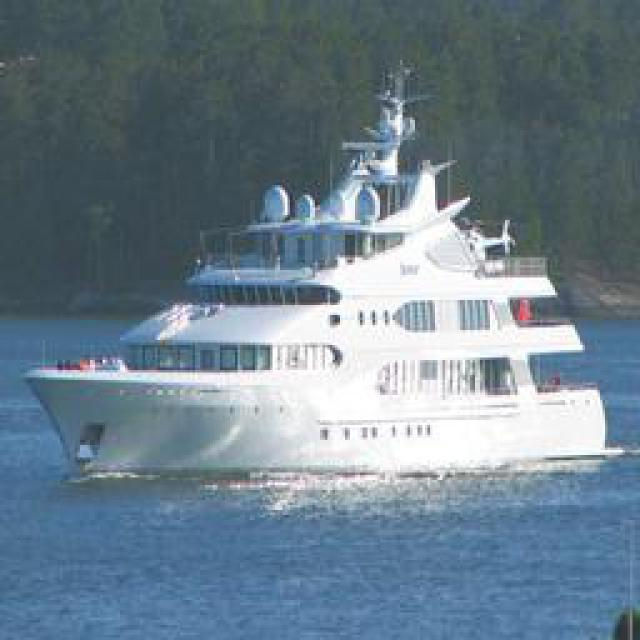Ship: (36, 127, 609, 487)
